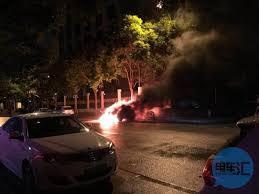fire: (94, 96, 164, 128)
